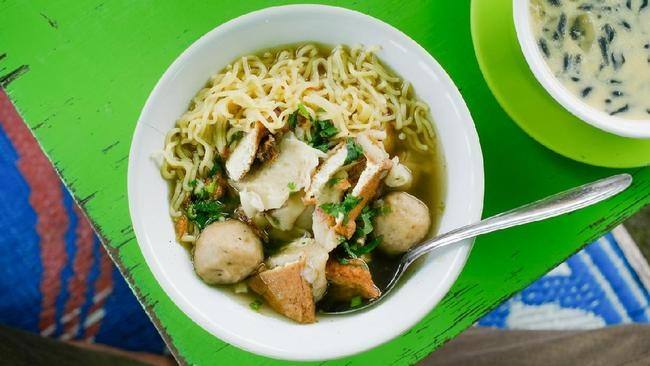bakso_malang: (164, 44, 445, 325)
